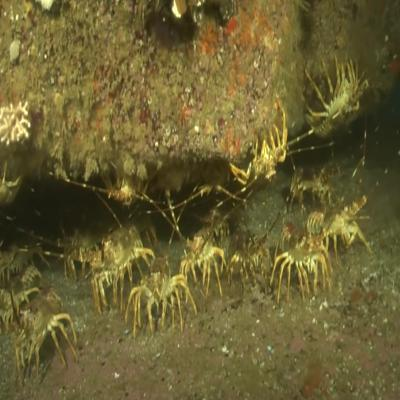lobster: (18, 288, 62, 371), (279, 222, 316, 290), (100, 224, 138, 289), (319, 78, 355, 140), (147, 255, 176, 328), (316, 197, 362, 243), (227, 234, 265, 285), (187, 221, 216, 286), (247, 133, 280, 190), (63, 228, 92, 281), (110, 174, 141, 208)
